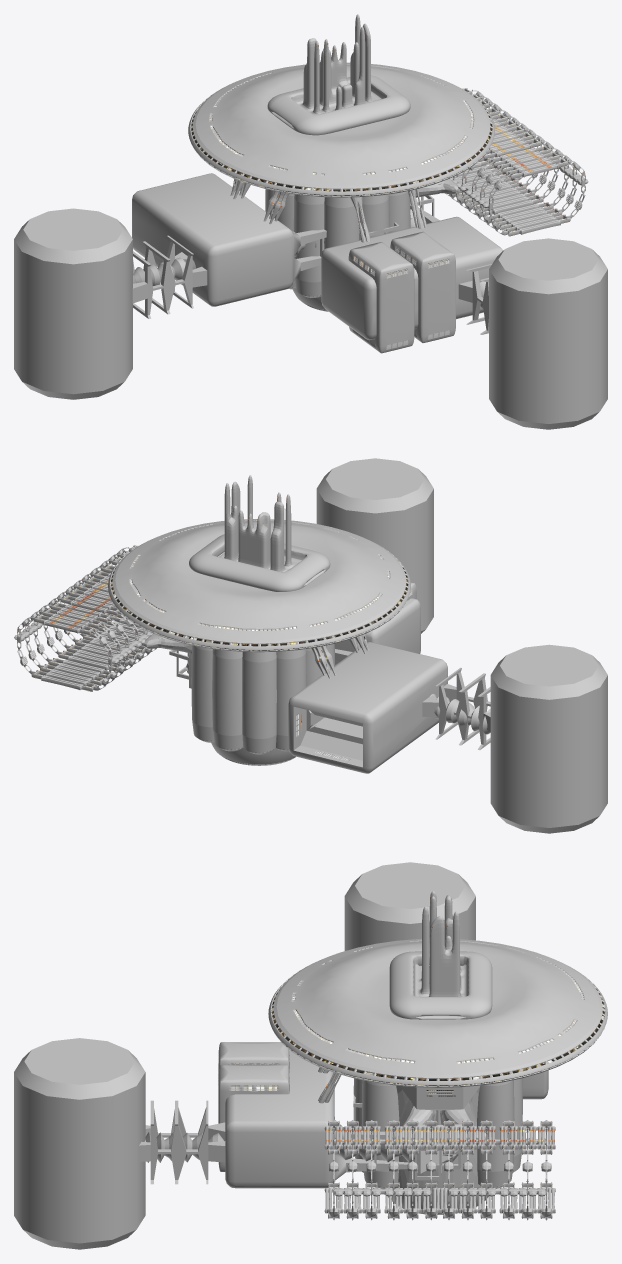
3 renders of one model, top to bottom at view 1: azimuth 30°, elevation 25°; view 2: azimuth 150°, elevation 25°; view 3: azimuth 270°, elevation 25°, orthographic. The views are drawn at different scales.
Parts seen in each view (by area): view 1: MaterialFBXASC032FBXASC0352142150880 (×13), SG-Gold-glow; view 2: MaterialFBXASC032FBXASC0352142150880 (×11), SG-Gold-glow; view 3: MaterialFBXASC032FBXASC0352142150880 (×14), SG-Gold-glow, ORDNUNGSKRAFTFBXASC032Graviton.
Part boxes in pixels (bbox=[...]): MaterialFBXASC032FBXASC0352142150880 (×13): bbox=[14, 14, 607, 429]; SG-Gold-glow: bbox=[191, 104, 492, 211]; MaterialFBXASC032FBXASC0352142150880 (×11): bbox=[14, 458, 607, 833]; SG-Gold-glow: bbox=[111, 560, 407, 666]; MaterialFBXASC032FBXASC0352142150880 (×14): bbox=[14, 862, 607, 1249]; SG-Gold-glow: bbox=[271, 984, 604, 1085]; ORDNUNGSKRAFTFBXASC032Graviton: bbox=[326, 1084, 554, 1212].
Bounding box in the file's own units: 111 × 54.52 × 96.58.
